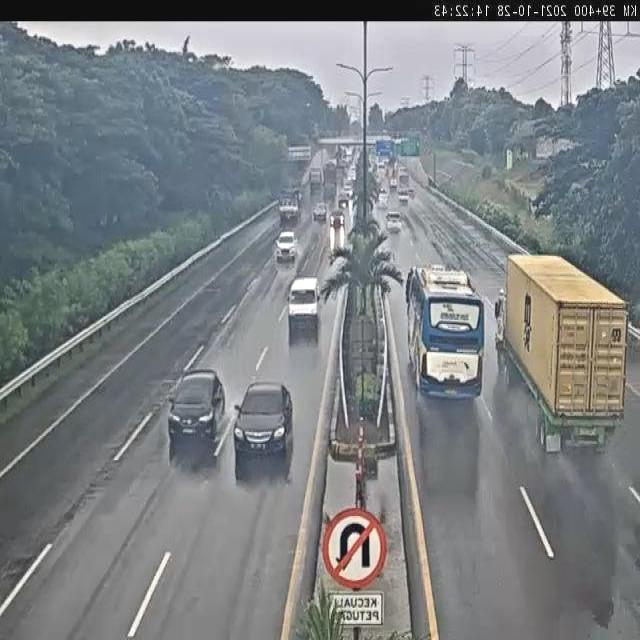Bus: (400, 260, 490, 404)
Car: (226, 377, 295, 475), (167, 368, 224, 466), (286, 276, 320, 344), (275, 230, 298, 262), (386, 211, 402, 233), (312, 202, 328, 222)
Truck: (499, 239, 624, 456)
